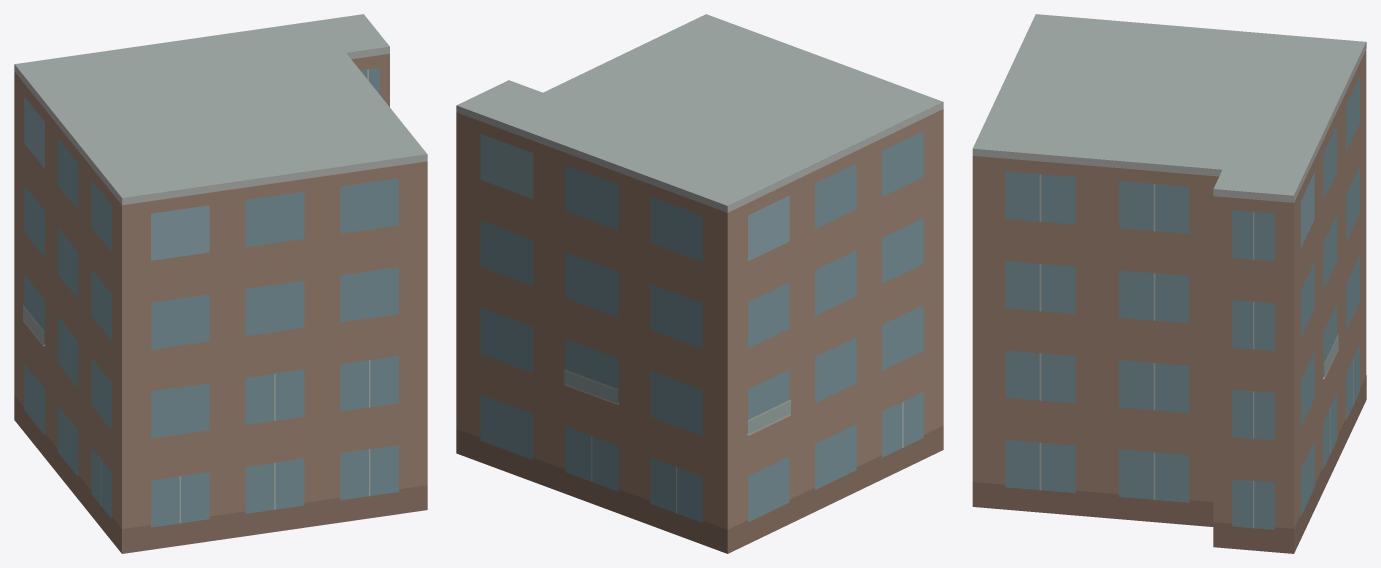
The model's file is residential-edf84685-6590-4898-924d-0c29a7a8e684.glb.
The picture shows the model from 3 angles, left to right: view 1: azimuth 30°, elevation 25°; view 2: azimuth 150°, elevation 25°; view 3: azimuth 270°, elevation 25°; orthographic projection. The views are drawn at different scales.
Visible parts, largest first — view 1: residential-edf84685-6590-4898-924d-0c29a7a8e684.tmp; view 2: residential-edf84685-6590-4898-924d-0c29a7a8e684.tmp; view 3: residential-edf84685-6590-4898-924d-0c29a7a8e684.tmp.
Part boxes in pixels (x1,y1,x2,y2): residential-edf84685-6590-4898-924d-0c29a7a8e684.tmp: [14, 14, 427, 553]; residential-edf84685-6590-4898-924d-0c29a7a8e684.tmp: [456, 14, 943, 553]; residential-edf84685-6590-4898-924d-0c29a7a8e684.tmp: [972, 14, 1366, 553].
Size of the model in its own units: 13.29 by 12.2 by 12.17.
